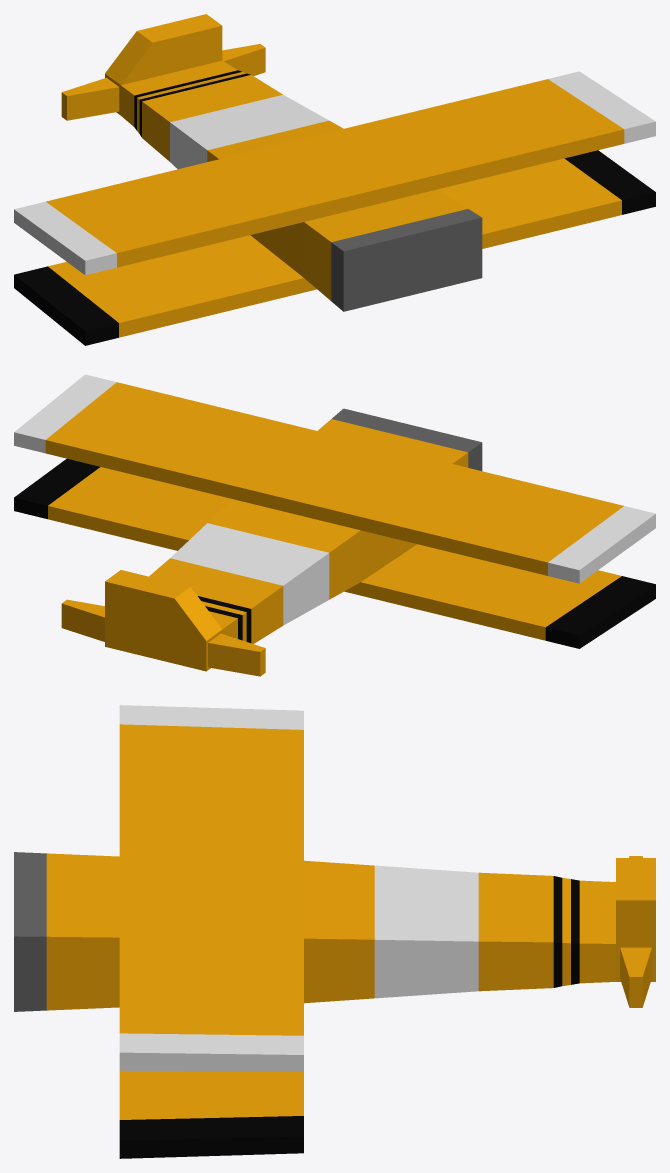
The model's file is airplane_model.gltf.
The picture shows the model from 3 angles, top to bottom: view 1: azimuth 30°, elevation 25°; view 2: azimuth 150°, elevation 25°; view 3: azimuth 270°, elevation 25°; orthographic projection. The views are drawn at different scales.
Bounding box in the file's own units: 5.72 × 0.8865 × 4.46.
